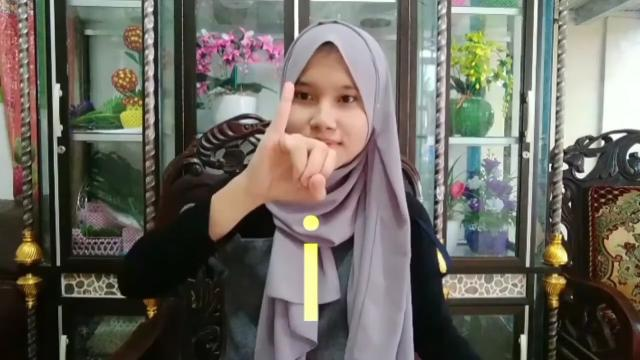I: (253, 82, 339, 210)
